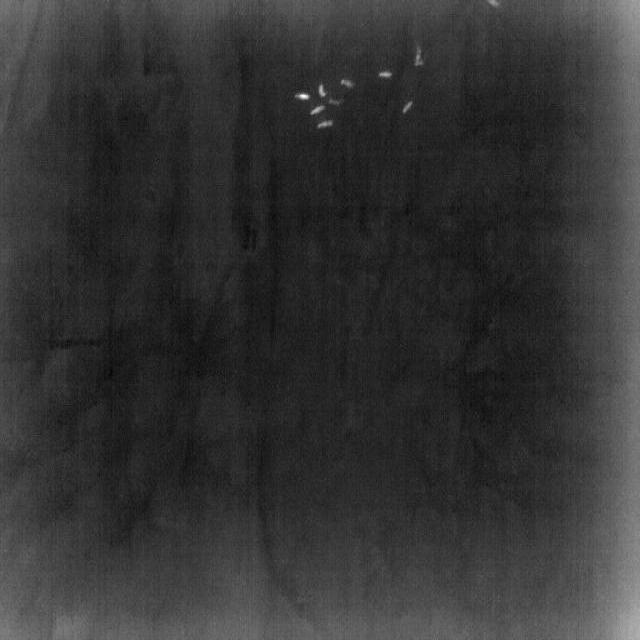deer: (310, 104, 325, 116), (340, 79, 356, 89), (318, 83, 328, 98), (294, 92, 310, 101), (317, 120, 333, 129), (402, 101, 413, 113), (377, 71, 393, 78), (328, 98, 342, 106), (416, 46, 421, 61), (415, 60, 424, 67)
